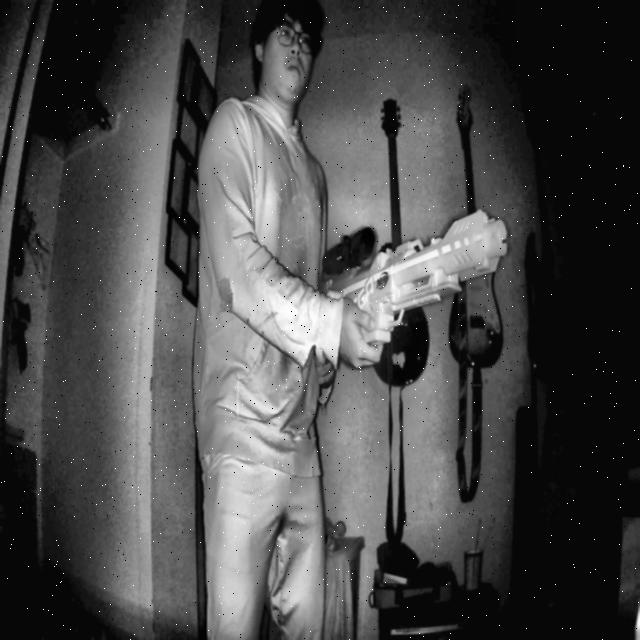Nerf_Blaster: (300, 190, 526, 418)
